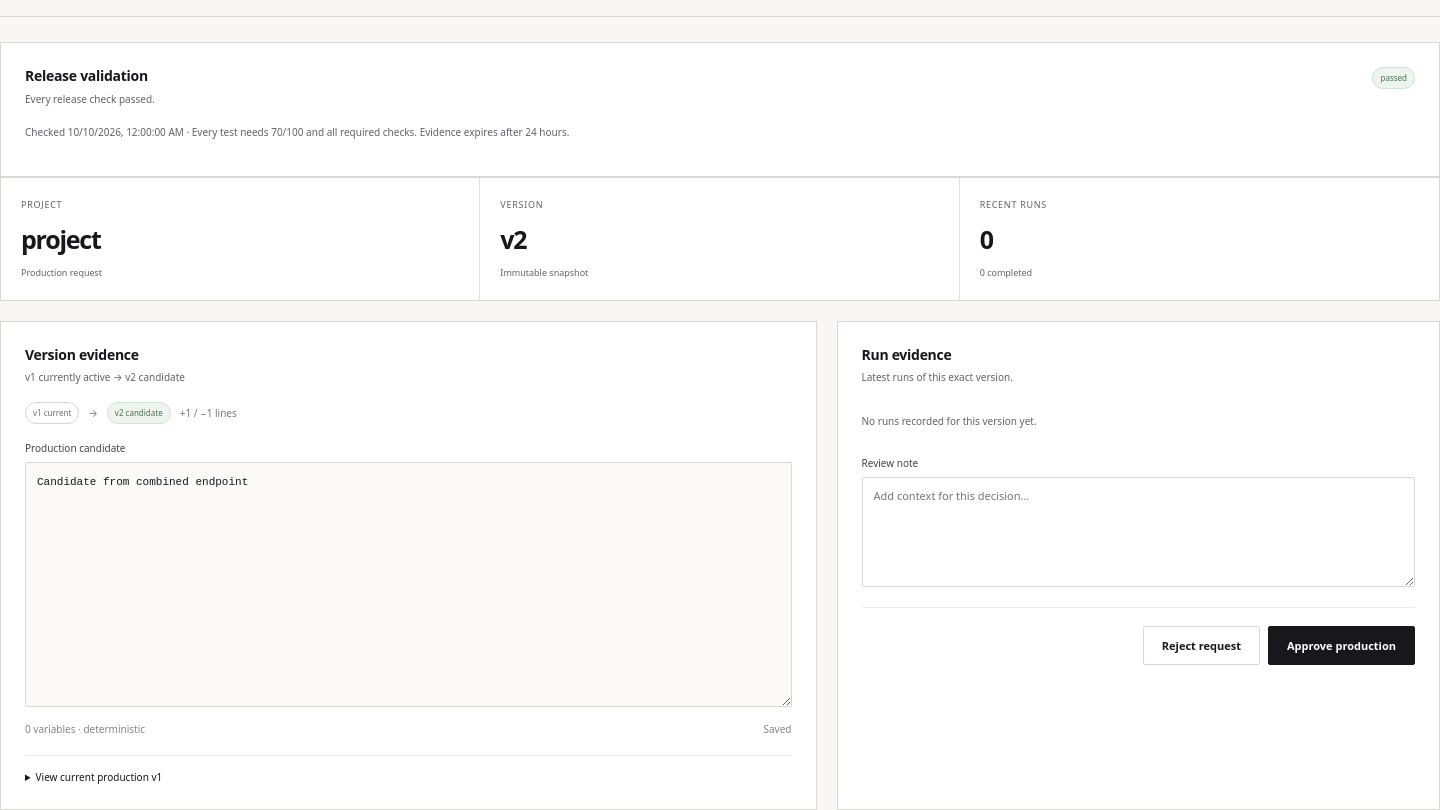
Test: prevents repeated approve submissions and refreshes queue/review after completion
This screenshot has width=1440, height=810.
(page scrolled)
Expected: the text box showing "Candidate from combined endpoint" is shown, [25, 462, 792, 707]
In the text box labelled "Review note": [1138, 532] box [862, 477, 1415, 587], type "My review"
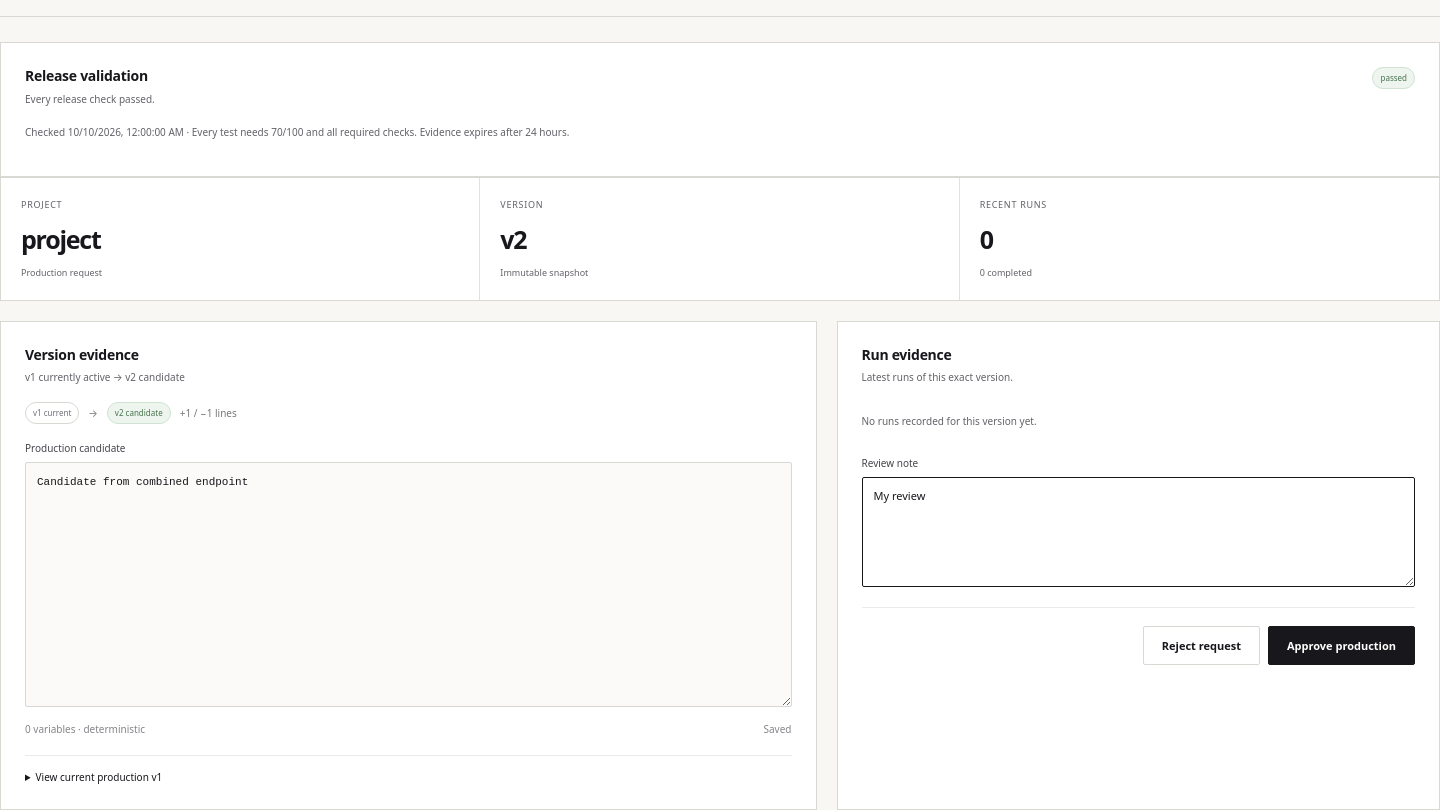
Click the button "Approve production": [1341, 646] box [1268, 626, 1415, 666]
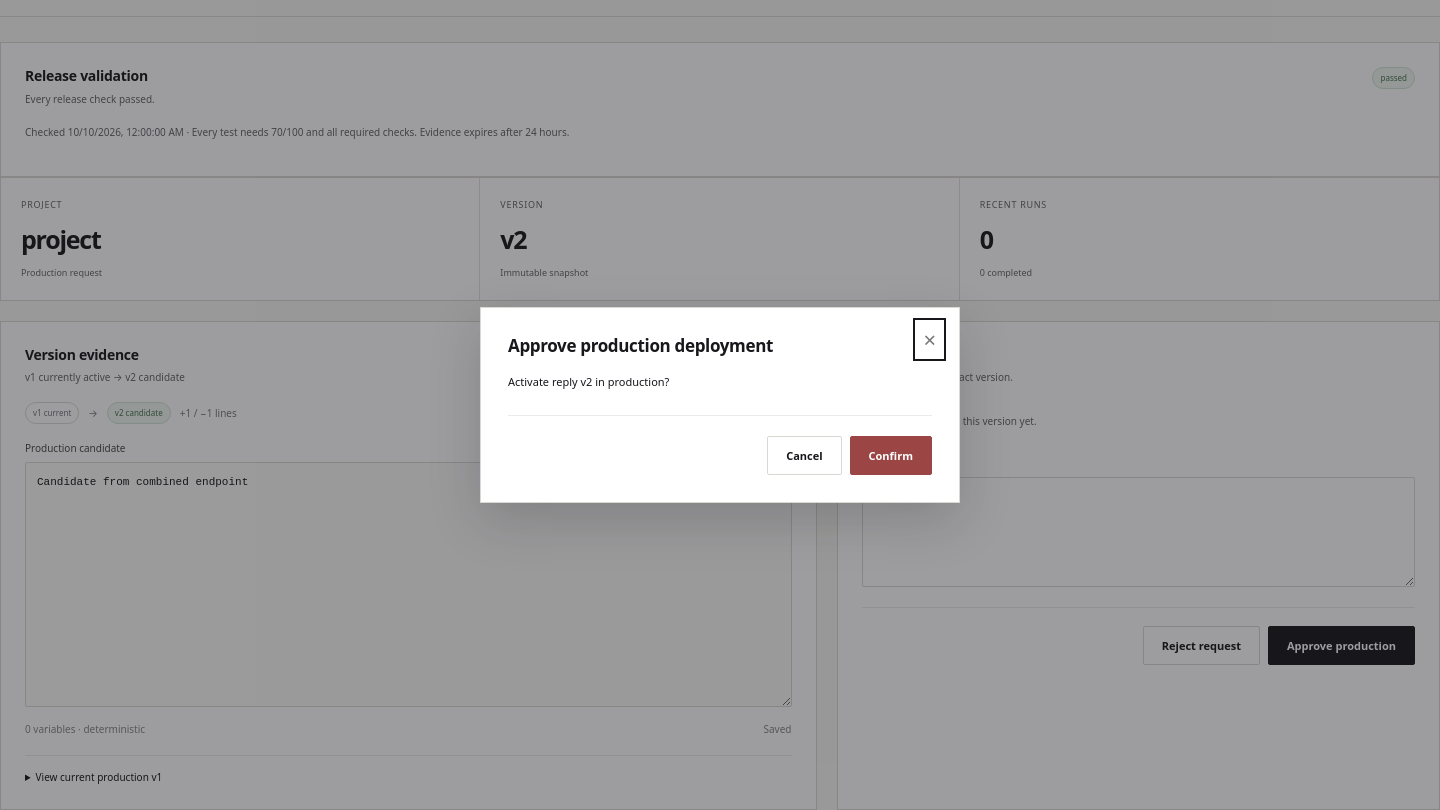
Click the button "Confirm": [891, 456] box [850, 436, 932, 476]
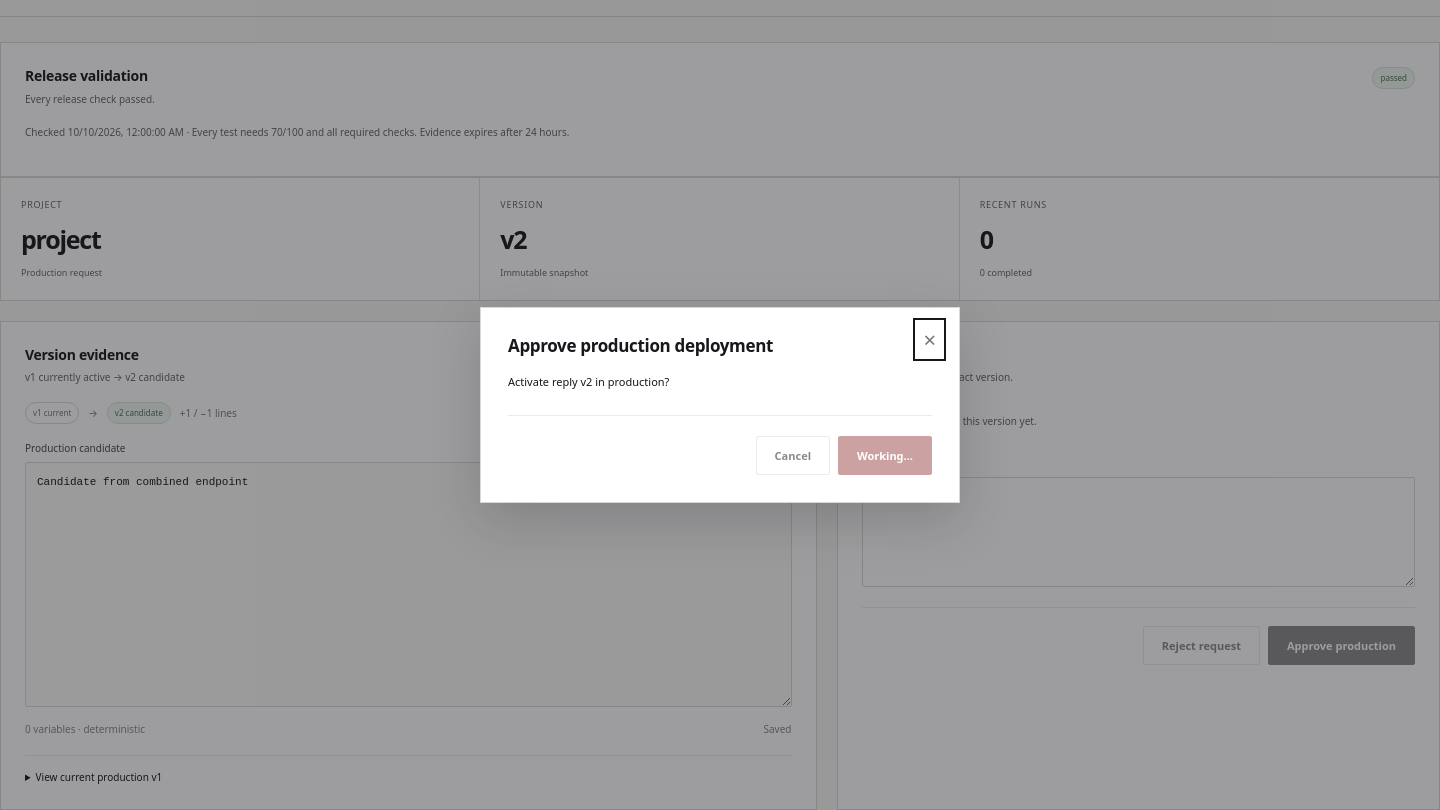
Click the button named "Confirm": [885, 456] box [838, 436, 932, 476]
(page scrolled)
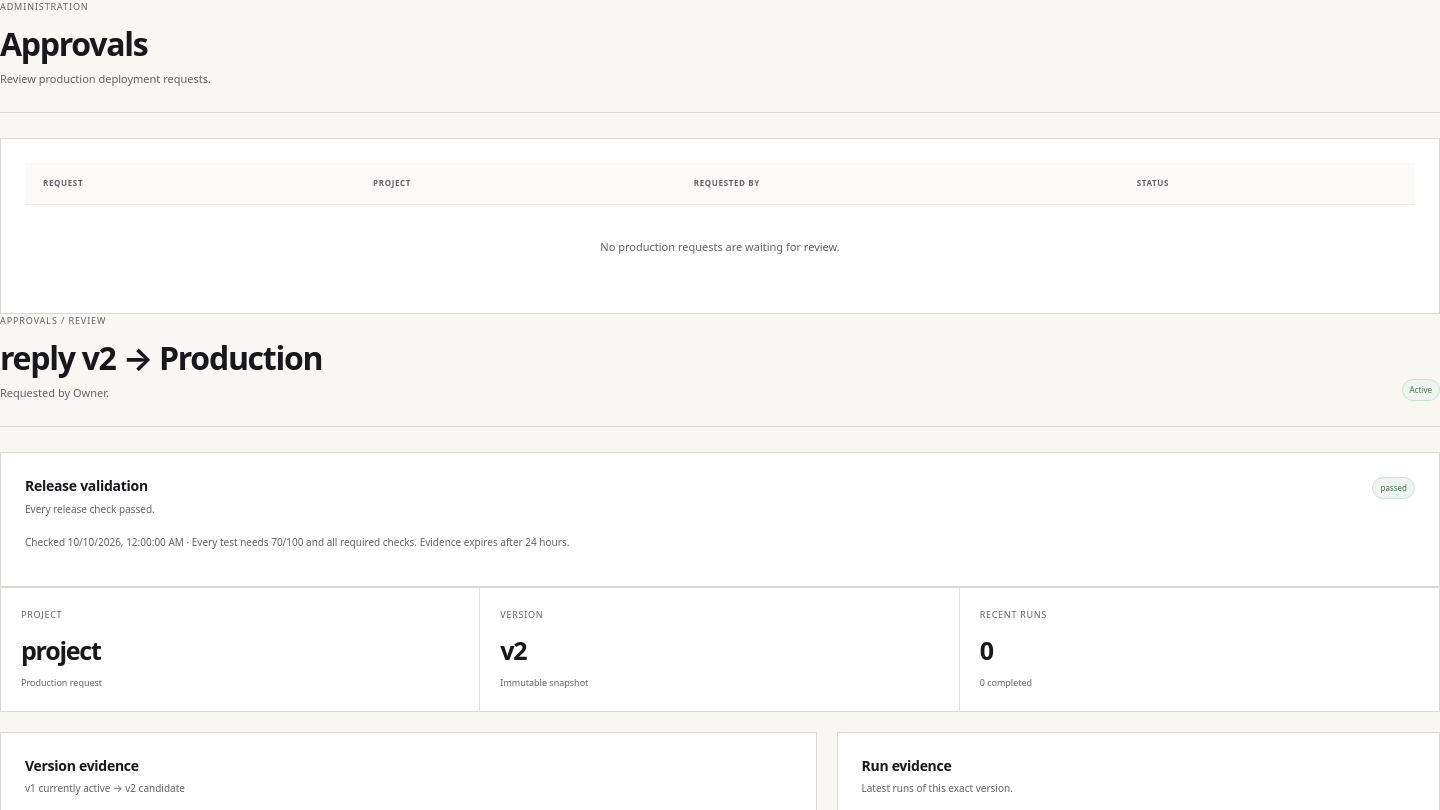
Result: the text "No production requests are waiting for review." is shown at [600, 239, 840, 254]
Result: the button "Approve production" is gone
